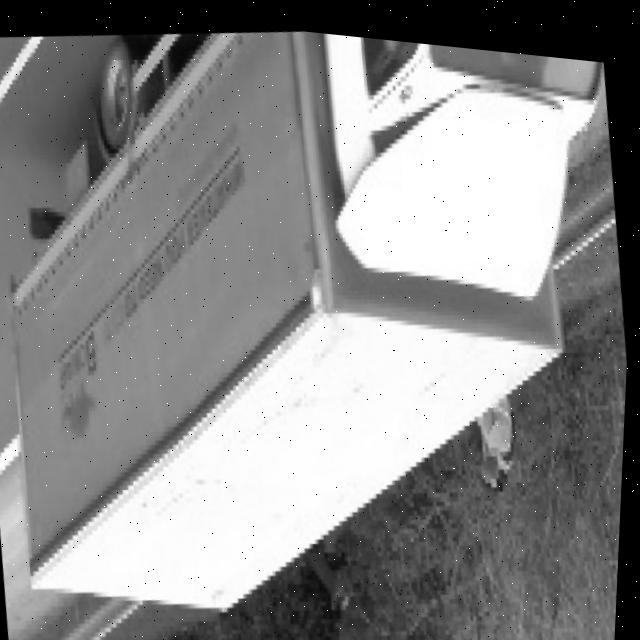truck: (289, 25, 635, 340)
